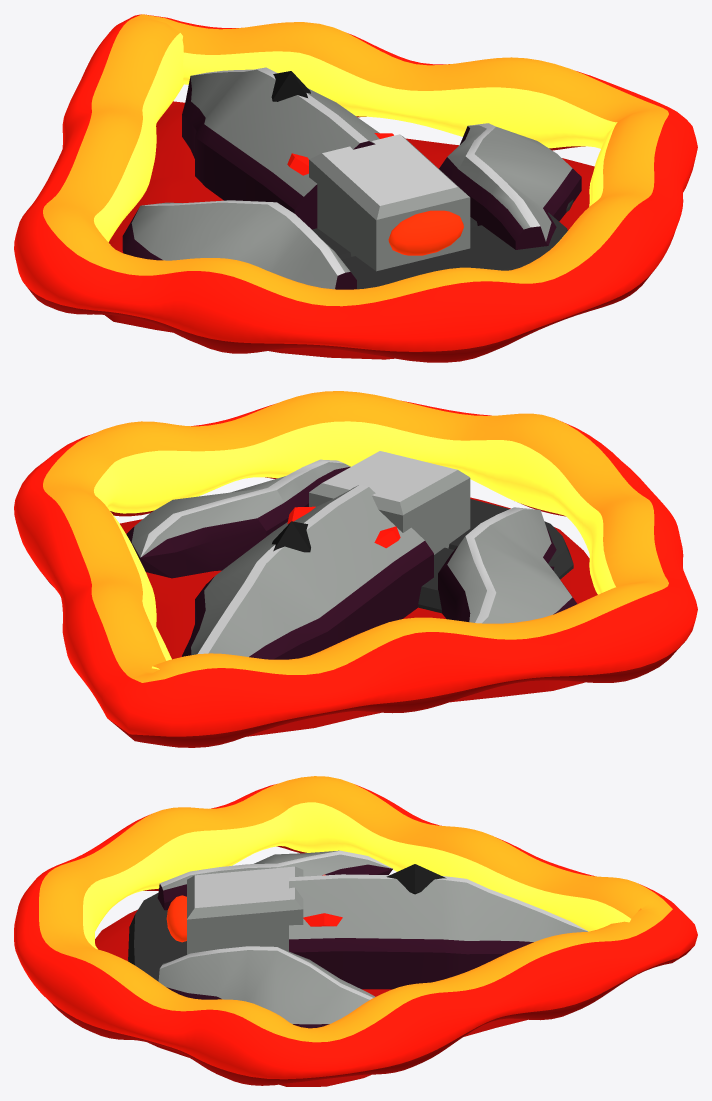
Rendered from pu_flare.glb.
3 renders of one model, top to bottom at view 1: azimuth 30°, elevation 25°; view 2: azimuth 150°, elevation 25°; view 3: azimuth 270°, elevation 25°, orthographic. The views are drawn at different scales.
Parts seen in each view (by area): view 1: ring, spire, block, blade_left, blade_right, fill, base_rear, exhaust, canopy; view 2: ring, spire, blade_right, blade_left, block, fill, base_rear, base_front, canopy; view 3: ring, spire, blade_right, block, blade_left, base_rear, fill, canopy, exhaust.
Boxes of the visible parts, x1,y1,x2,y2 form: ring: (14, 14, 697, 362); spire: (182, 67, 379, 229); block: (309, 134, 470, 271); blade_left: (122, 200, 356, 289); blade_right: (439, 123, 581, 249); fill: (105, 101, 594, 359); base_rear: (341, 212, 567, 289); exhaust: (388, 210, 463, 255); canopy: (271, 71, 310, 101); ring: (14, 391, 697, 747); spire: (182, 484, 433, 659); blade_right: (126, 459, 350, 578); blade_left: (438, 507, 577, 623); block: (309, 451, 470, 554); fill: (120, 497, 597, 736); base_rear: (448, 499, 573, 579); base_front: (418, 547, 454, 613); canopy: (272, 521, 310, 552); ring: (14, 776, 697, 1085); spire: (289, 874, 588, 989); blade_right: (158, 946, 375, 1028); block: (187, 866, 303, 954); blade_left: (157, 850, 392, 910); base_rear: (128, 892, 186, 981); fill: (95, 909, 527, 1086); canopy: (386, 864, 446, 894); exhaust: (166, 895, 186, 942).
Bounding box in the file's own units: 19.99 × 3.98 × 21.15.
